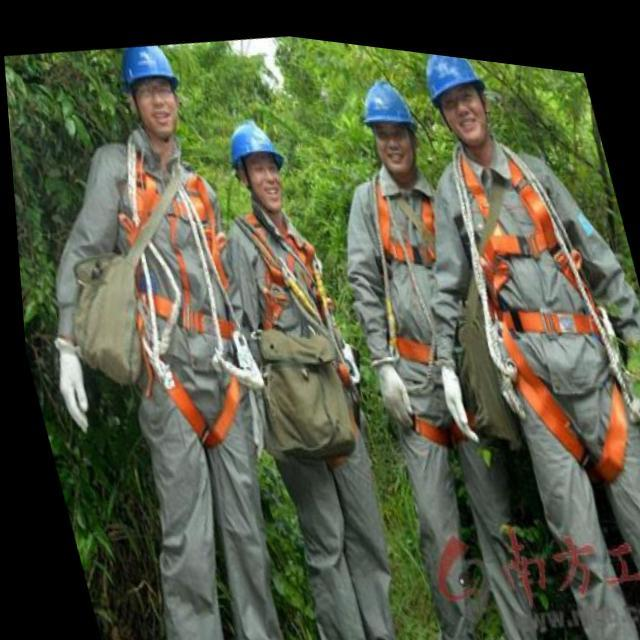belt: (440, 146, 640, 487), (88, 152, 280, 470), (350, 165, 498, 462), (233, 238, 352, 411)
